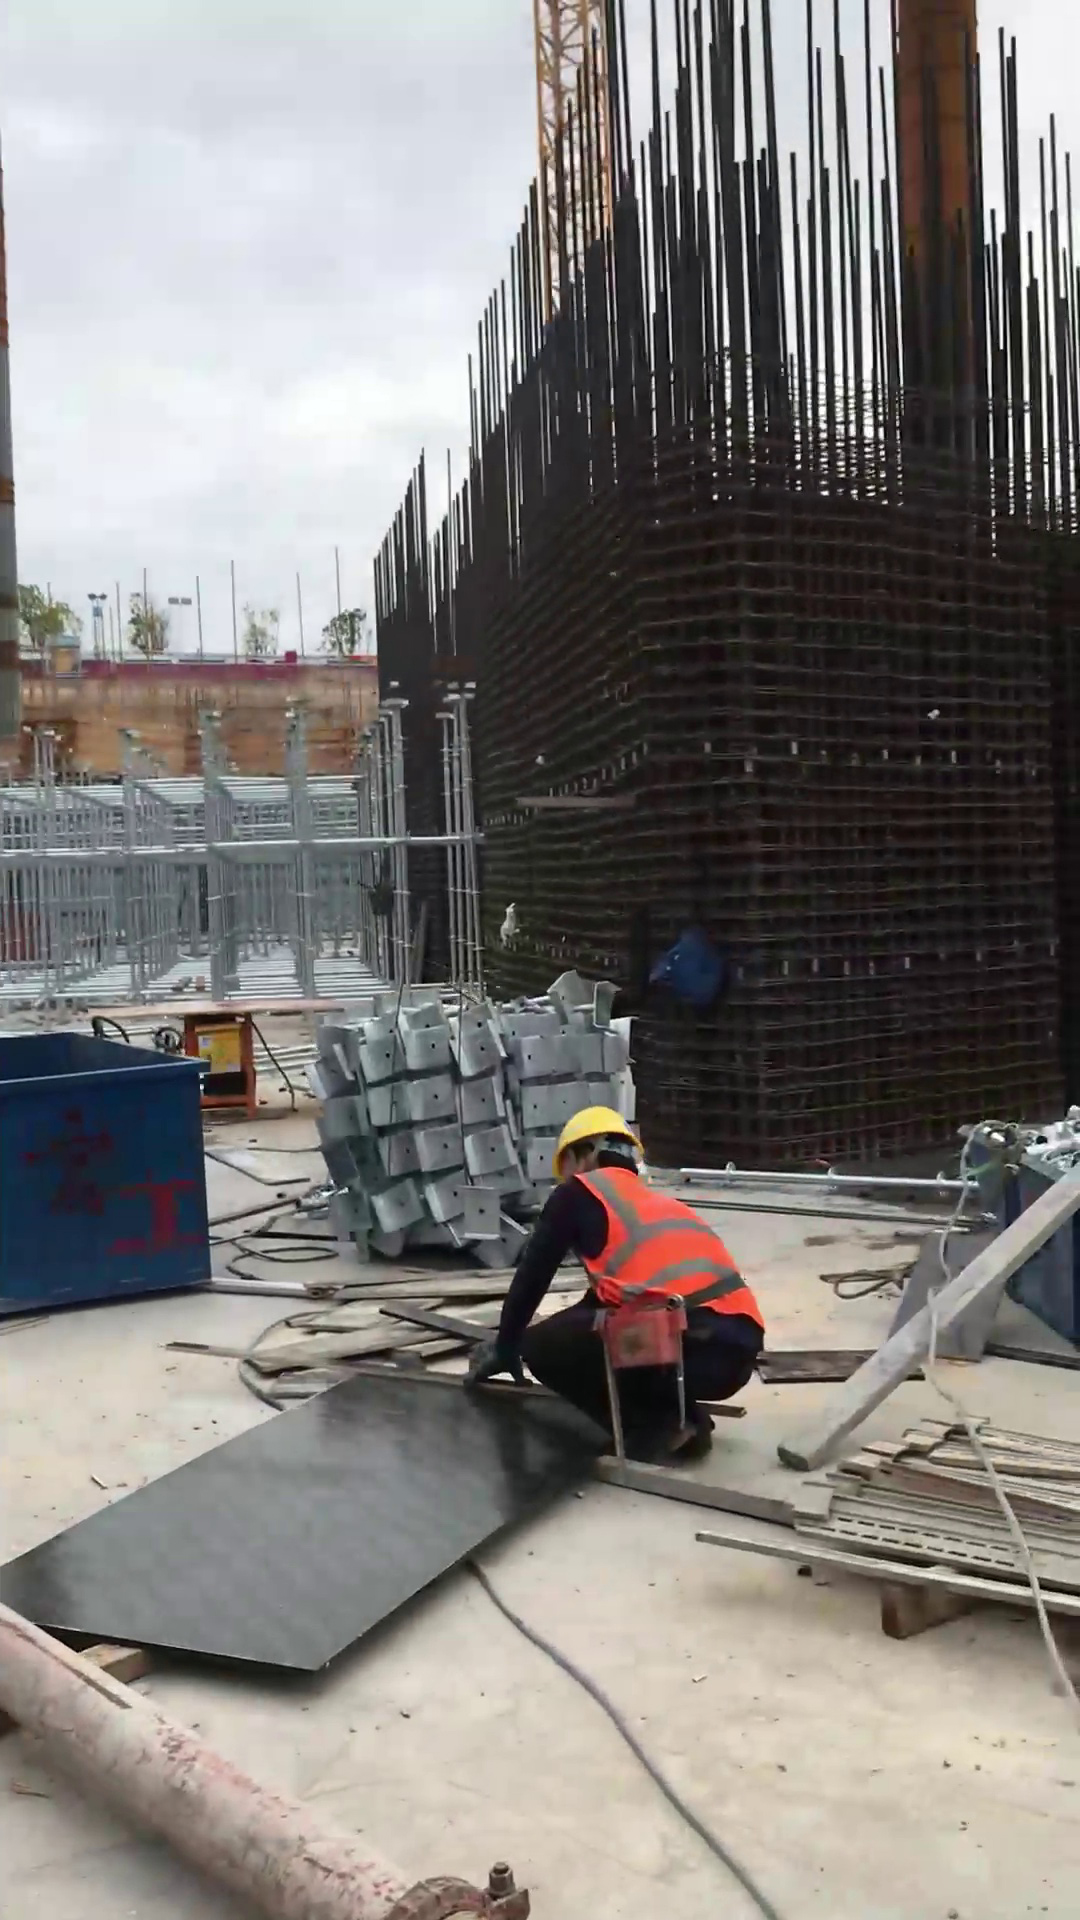cutter: (99, 984, 349, 1108)
helmet: (542, 1101, 659, 1175)
hopper: (1, 1013, 226, 1330)
person: (471, 1092, 771, 1492)
vest: (547, 1144, 771, 1356)
